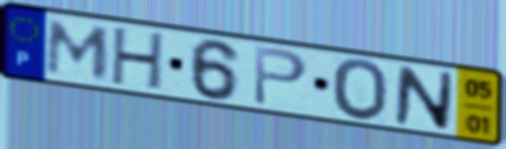6: (188, 37, 243, 104)
H: (108, 25, 168, 93)
M: (43, 18, 114, 82)
N: (391, 63, 457, 134)
O: (329, 56, 391, 124)
P: (251, 43, 311, 109)
